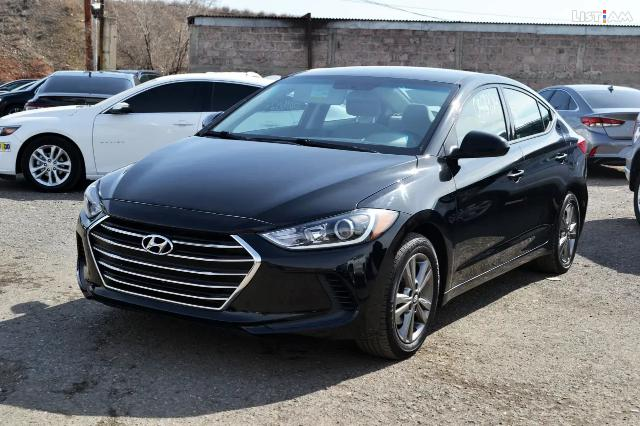hyundai: (76, 65, 588, 361)
